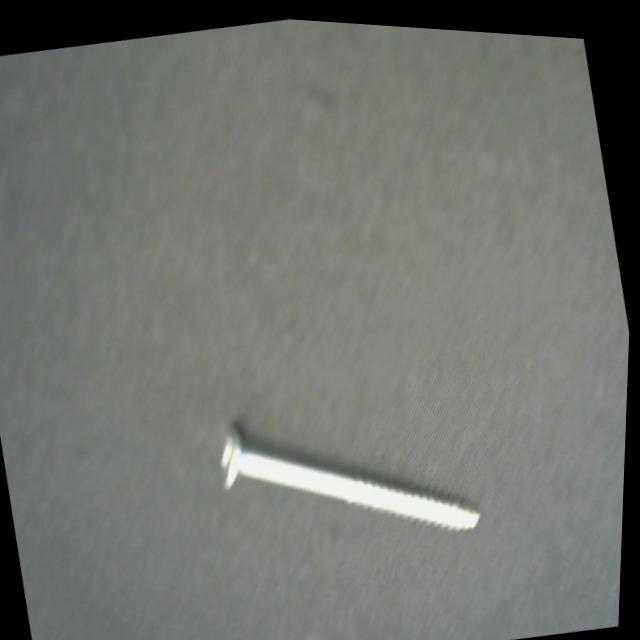WoodScrew: (206, 369, 499, 583)
